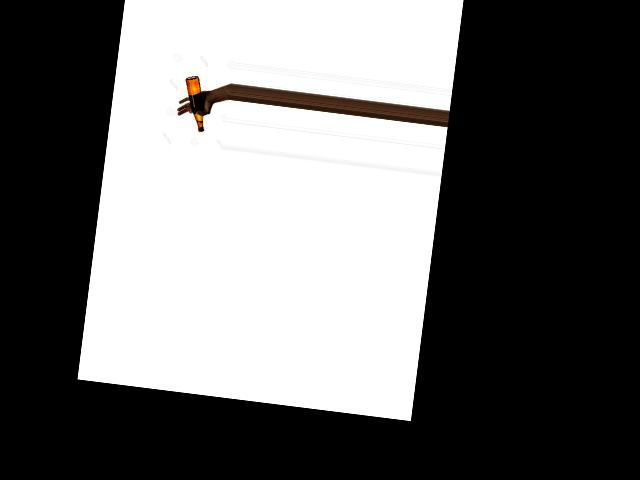beer: (180, 75, 210, 131)
